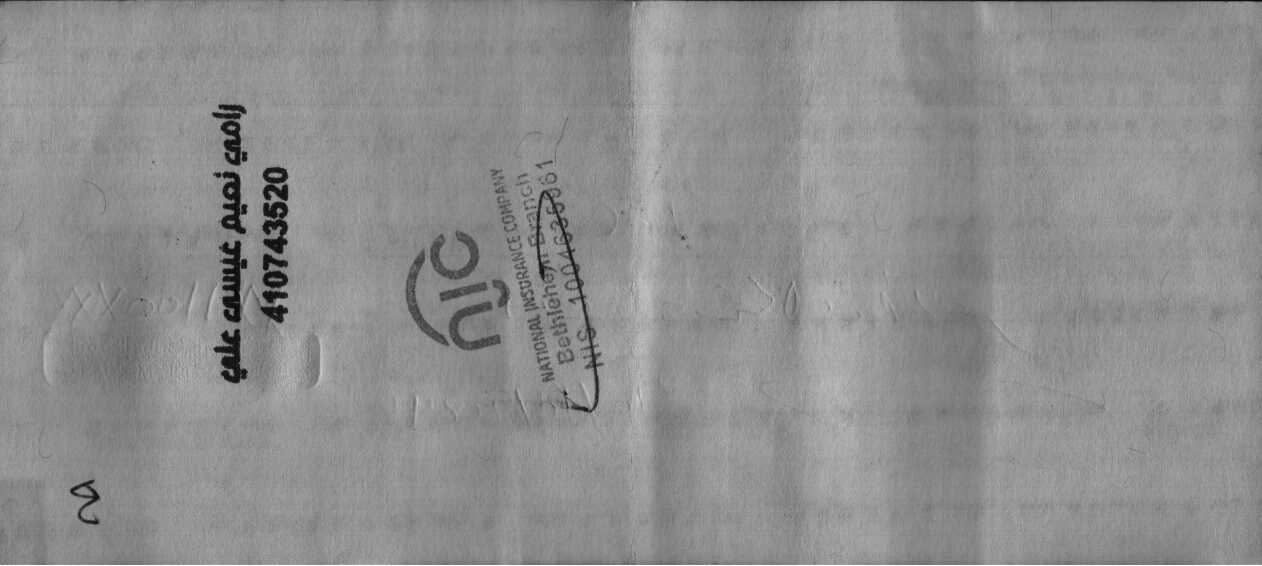stamp: (402, 156, 606, 407)
